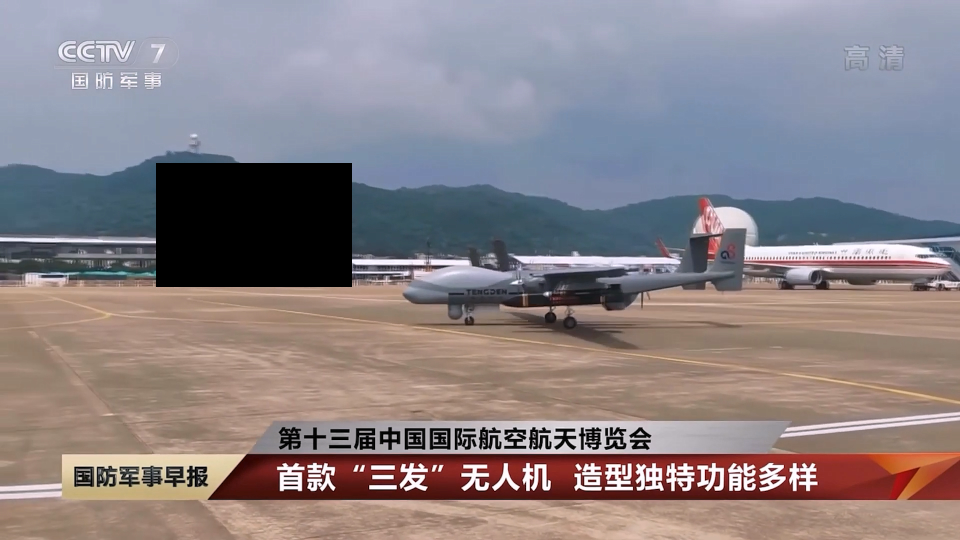airplane: (655, 197, 953, 289)
military drone: (402, 227, 747, 328)
